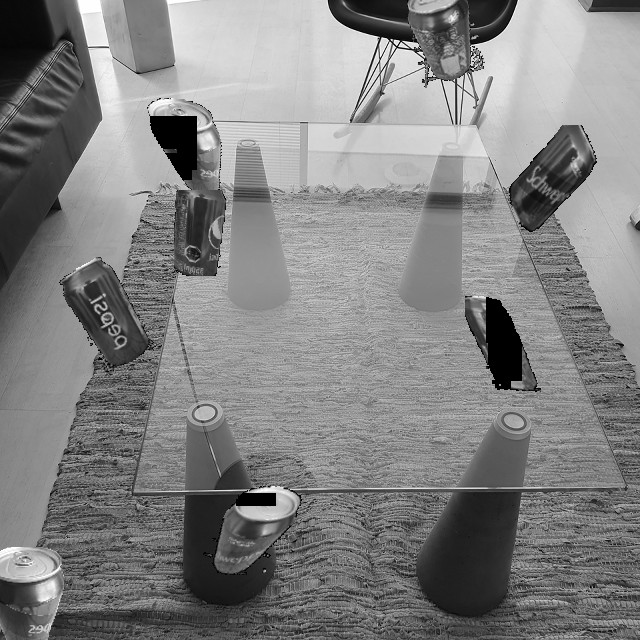pepsi: (56, 254, 157, 374), (402, 0, 485, 88), (174, 190, 226, 276)
schweppes: (494, 125, 612, 240), (194, 477, 310, 575), (142, 95, 225, 192), (0, 547, 64, 640)
sprite: (465, 291, 541, 396)
